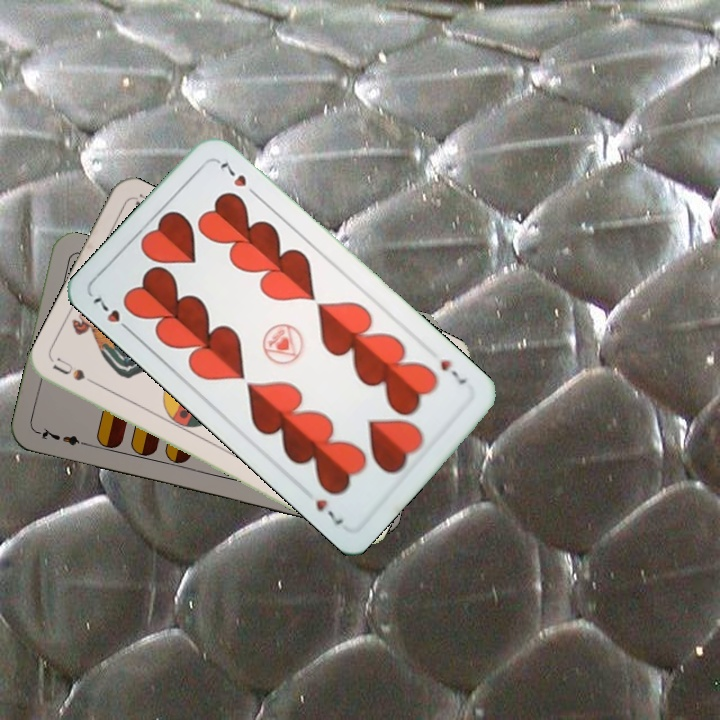E7: (34, 423, 93, 450)
H7: (89, 293, 136, 336), (436, 355, 469, 388)
SU: (49, 355, 106, 391)
